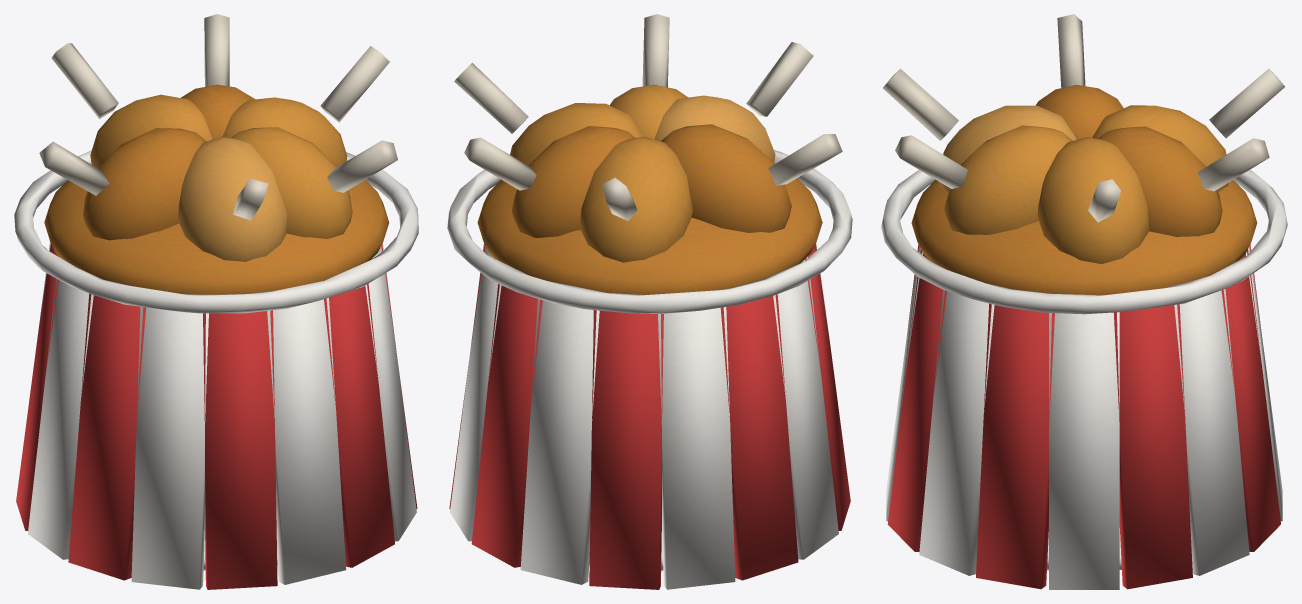
Rendered from keepsake-chicken-bucket.glb.
3 renders of one model, left to right at view 1: azimuth 30°, elevation 25°; view 2: azimuth 150°, elevation 25°; view 3: azimuth 270°, elevation 25°, orthographic.
Parts seen in each view (by area): view 1: keepsake-chicken-bucket; view 2: keepsake-chicken-bucket; view 3: keepsake-chicken-bucket.
Part boxes in pixels (x1=…): keepsake-chicken-bucket: x1=14, y1=14, x2=418, y2=589; keepsake-chicken-bucket: x1=447, y1=14, x2=852, y2=589; keepsake-chicken-bucket: x1=881, y1=14, x2=1287, y2=589.
Bounding box in the file's own units: 0.1665 × 0.18 × 0.1613.
1 material, 1 textured.
